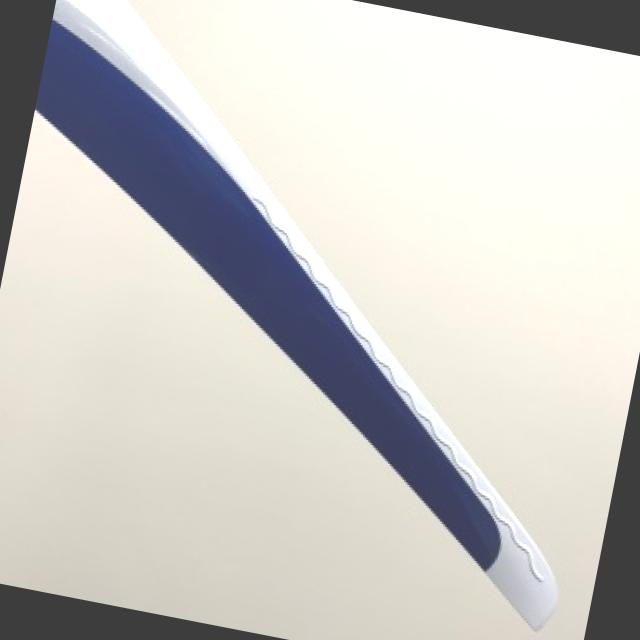healthy: (37, 0, 555, 628)
